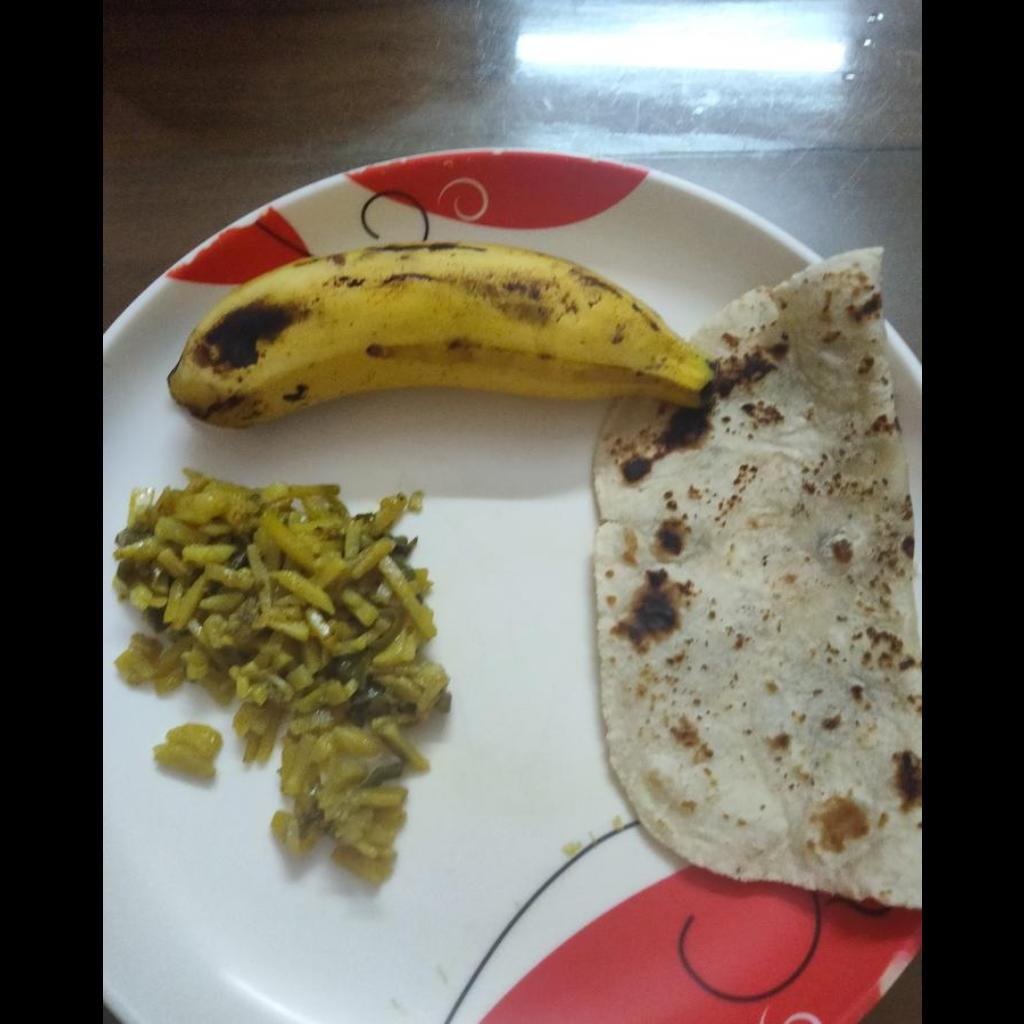banana: (163, 243, 716, 418)
ruti: (588, 243, 920, 914)
vaji: (106, 478, 443, 891)
